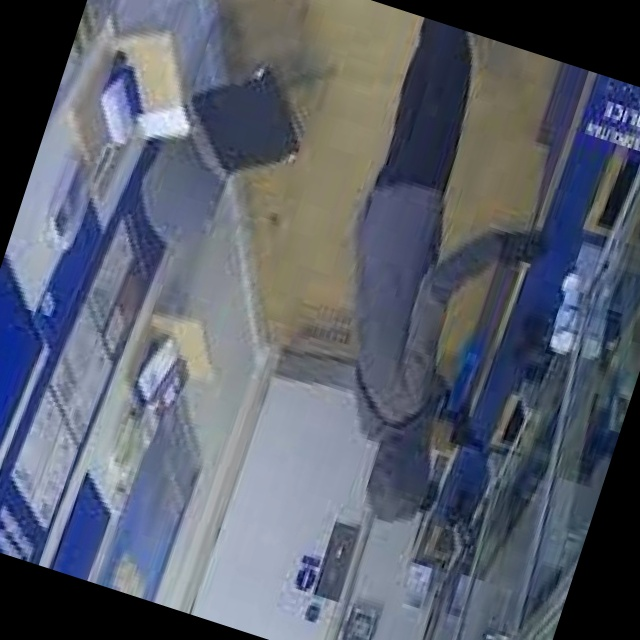gun: (434, 396, 501, 476)
